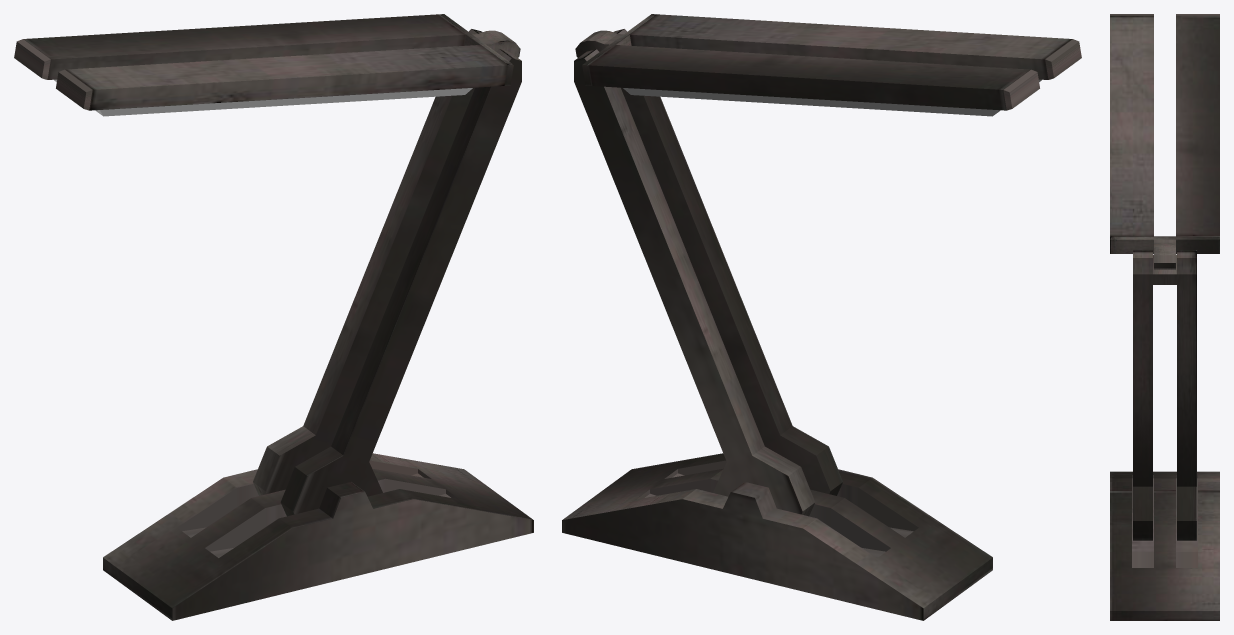
The model's file is lamp.obj.
3 views of the same model, side by side, from view 1: azimuth 30°, elevation 25°; view 2: azimuth 150°, elevation 25°; view 3: azimuth 270°, elevation 25° (orthographic). The views are drawn at different scales.
Visible parts, largest first — view 1: CubeLampFoot_Cube, CubeLamps_Cube.003, CubeLampLeg_Cube.001; view 2: CubeLampFoot_Cube, CubeLamps_Cube.003, CubeLampLeg_Cube.001; view 3: CubeLamps_Cube.003, CubeLampFoot_Cube, CubeLampLeg_Cube.001.
Boxes of the visible parts, x1,y1,x2,y2 form: CubeLampFoot_Cube: (103,453,533,620); CubeLamps_Cube.003: (14,14,520,116); CubeLampLeg_Cube.001: (253,29,521,516); CubeLampFoot_Cube: (562,453,992,620); CubeLamps_Cube.003: (575,14,1081,116); CubeLampLeg_Cube.001: (574,29,842,516); CubeLamps_Cube.003: (1110,14,1219,269); CubeLampFoot_Cube: (1110,471,1219,620); CubeLampLeg_Cube.001: (1133,250,1196,540).
Bounding box in the file's own units: 7.71 × 8.73 × 2.
2 materials, 1 textured.
